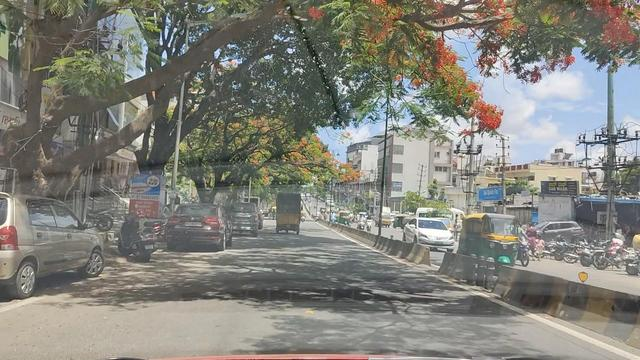HMV: (279, 192, 301, 235)
LMV: (170, 201, 223, 256)
